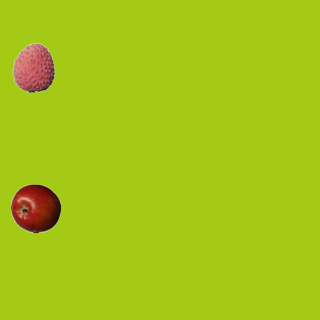Apple Braeburn: (10, 183, 60, 233)
Lychee: (8, 42, 58, 92)
